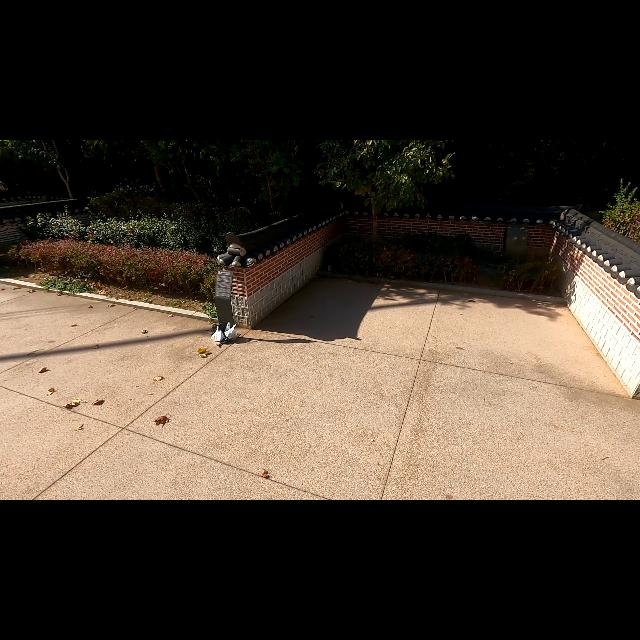trash: (210, 322, 228, 341), (224, 322, 238, 341), (210, 326, 223, 342)
